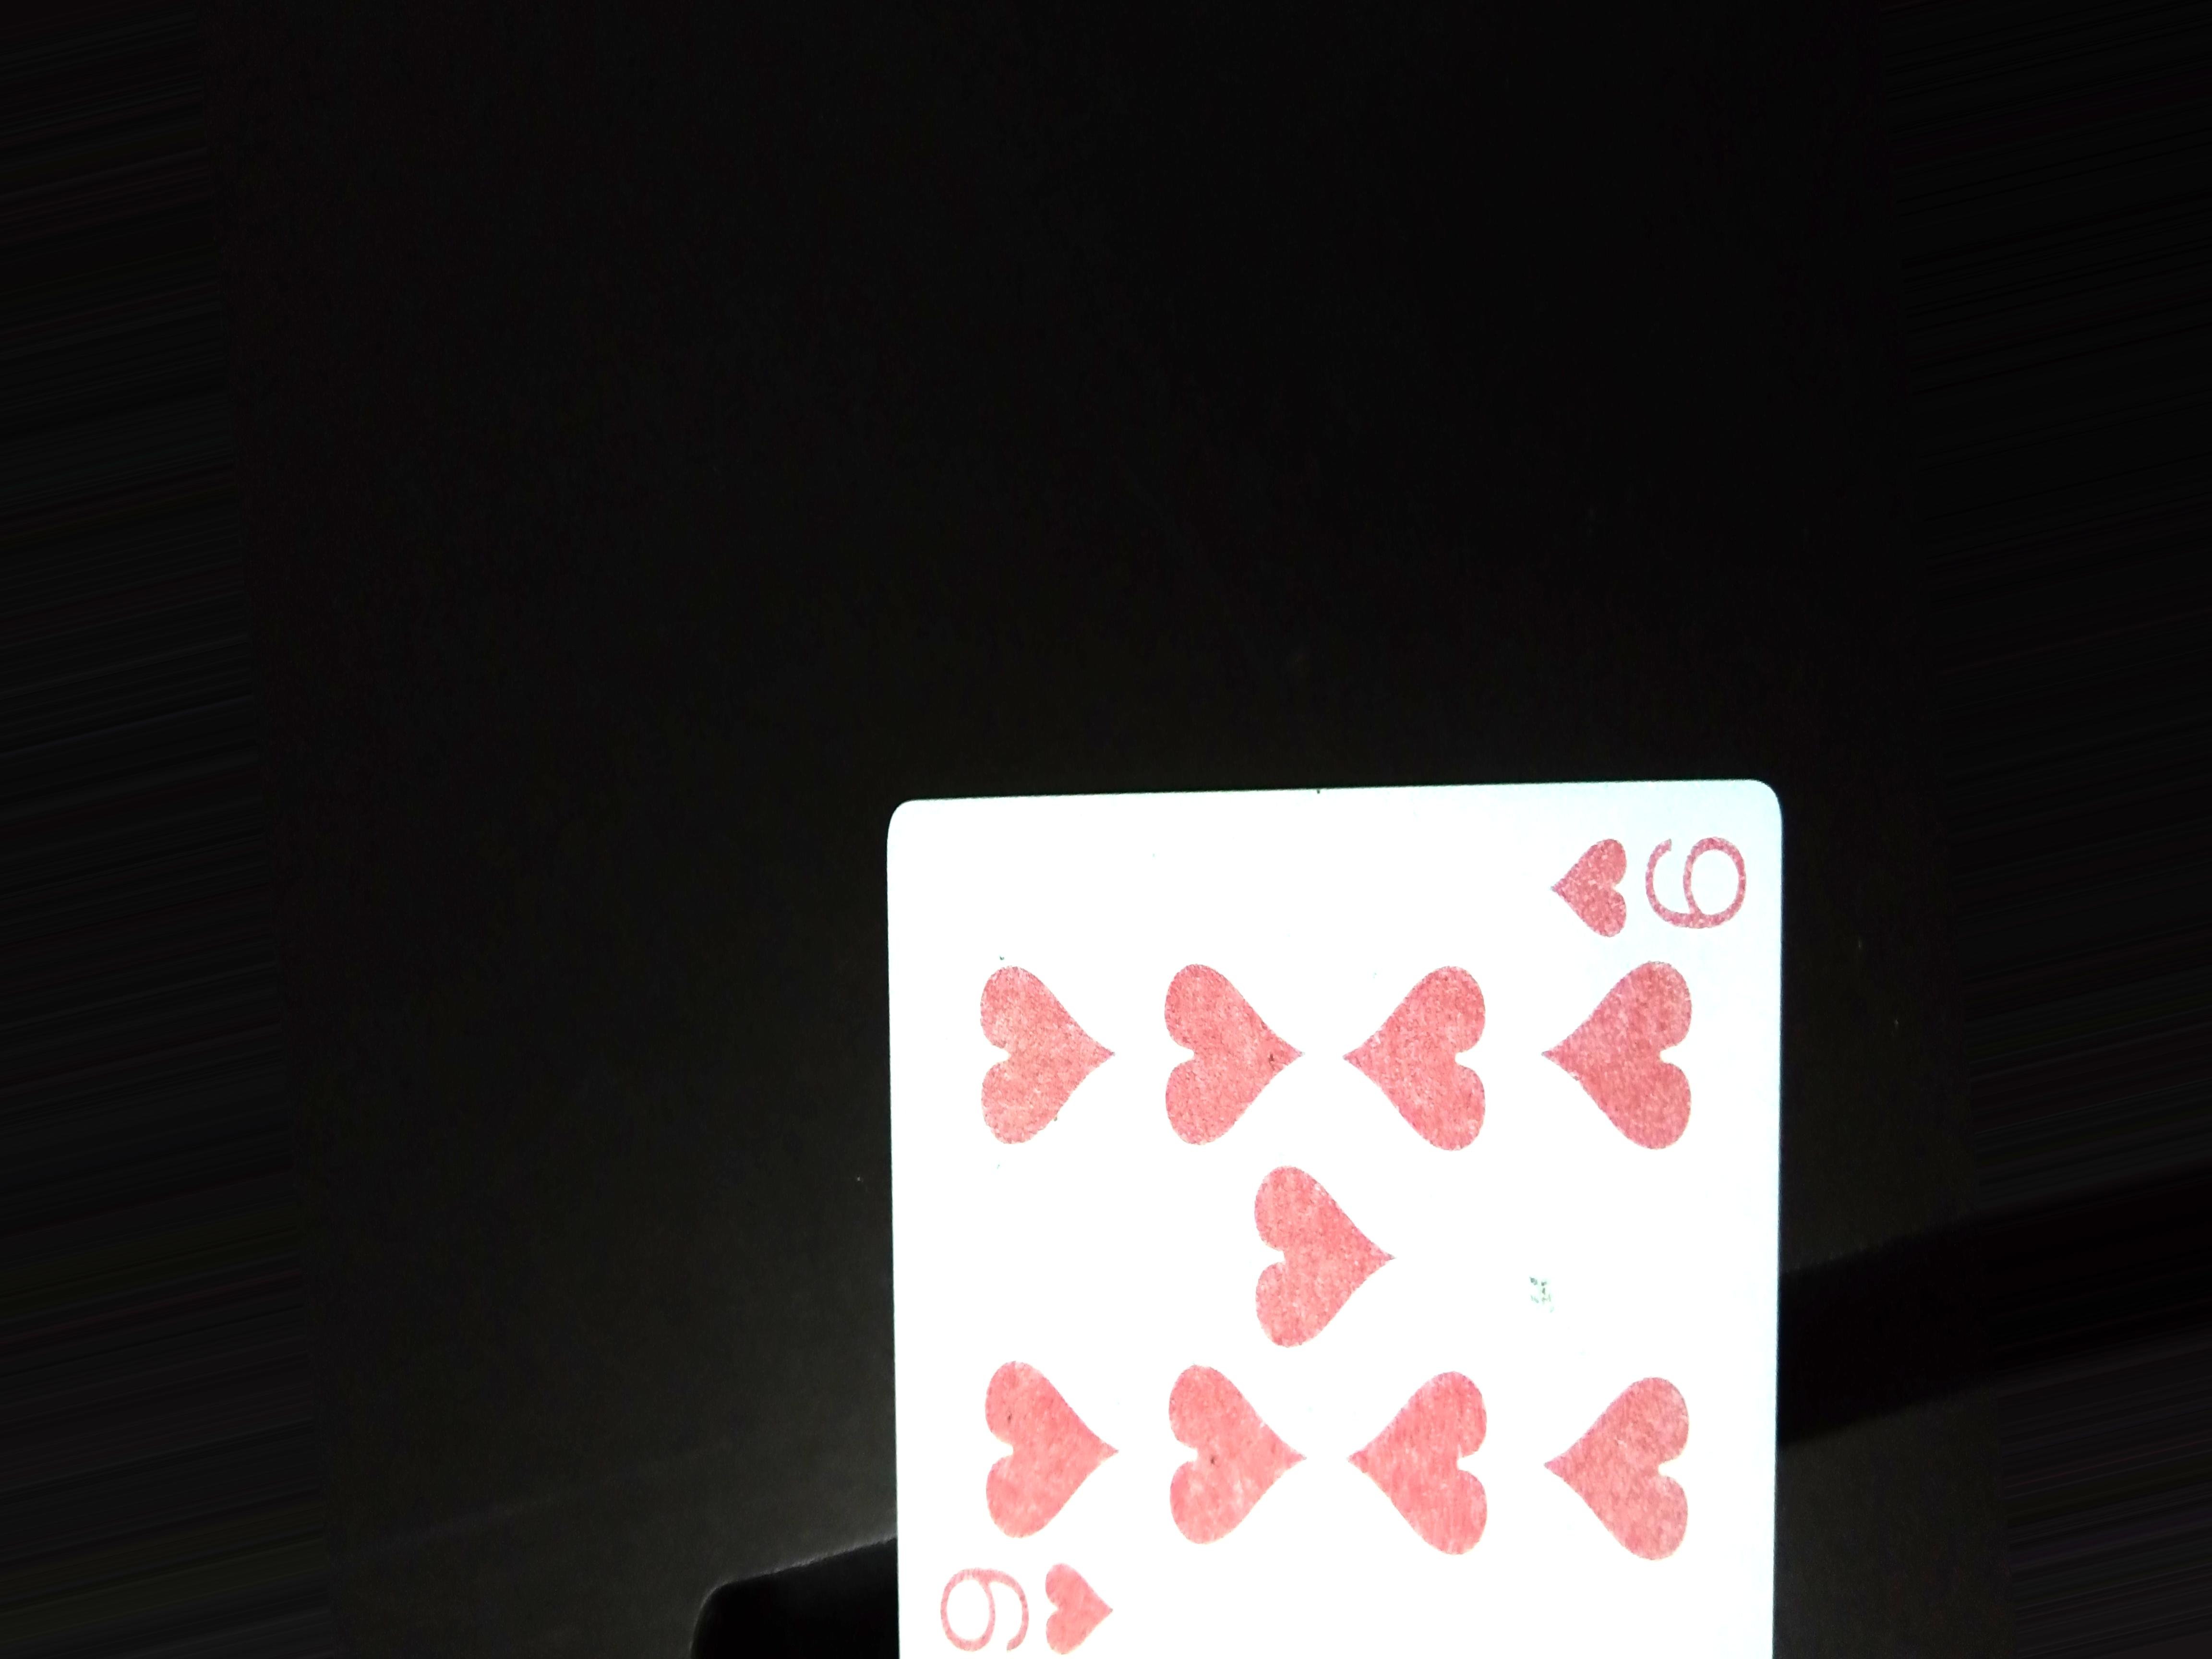9H: (1545, 829, 1768, 955)
